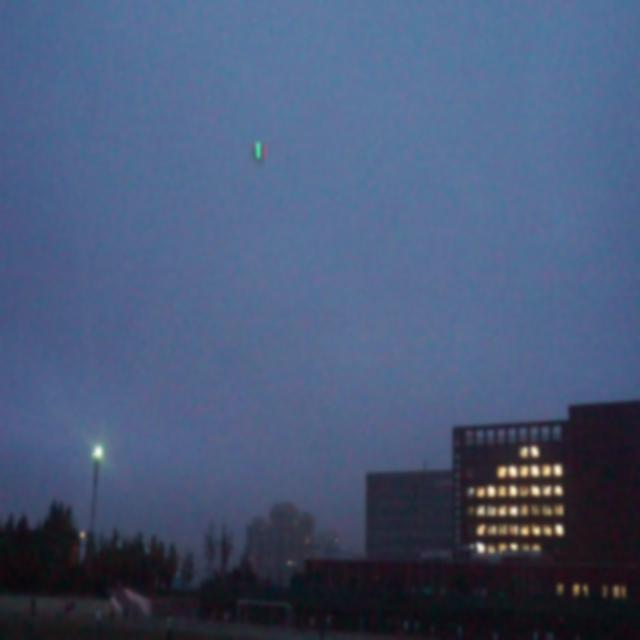UAV: (251, 142, 267, 164)
